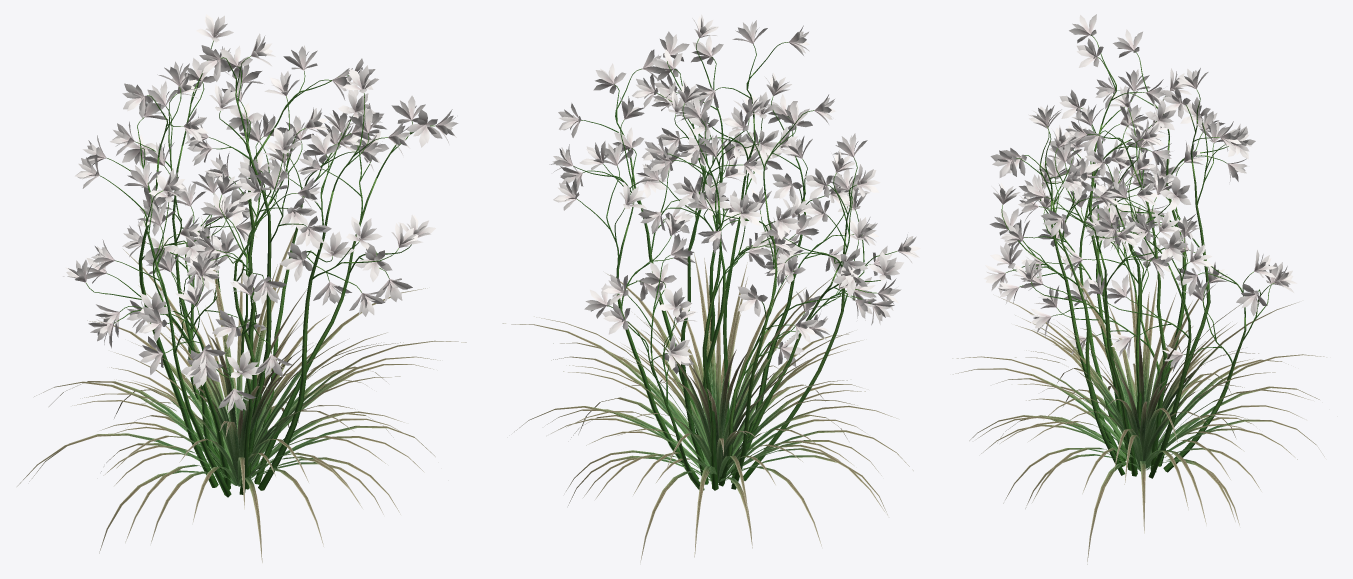
Rendered from Flower_Grass.glb.
3 renders of one model, left to right at view 1: azimuth 30°, elevation 25°; view 2: azimuth 150°, elevation 25°; view 3: azimuth 270°, elevation 25°, orthographic. The views are drawn at different scales.
Visible parts, largest first — view 1: Flower_Grass; view 2: Flower_Grass; view 3: Flower_Grass.
Part boxes in pixels (x1=…): Flower_Grass: x1=17, y1=14, x2=466, y2=562; Flower_Grass: x1=502, y1=14, x2=920, y2=562; Flower_Grass: x1=952, y1=14, x2=1326, y2=564.
Size of the model in its own units: 1.01 by 1.15 by 0.9094.
3 materials, 3 textured.
